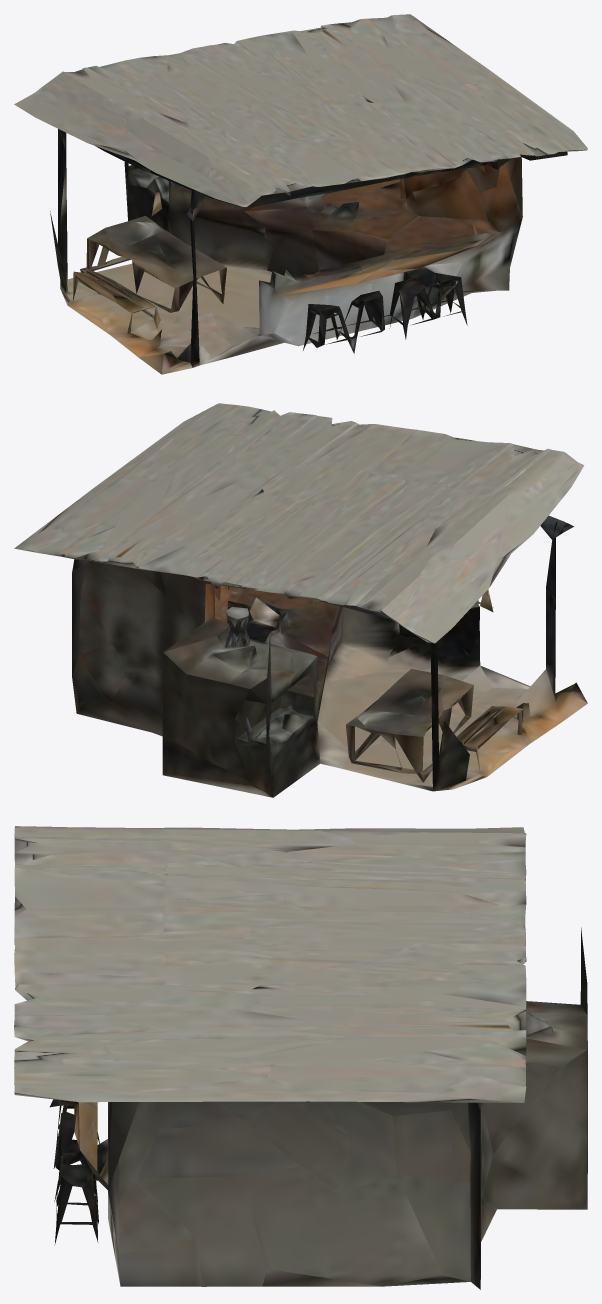
The model's file is cafe_mangrove_lod2.glb.
3 renders of one model, top to bottom at view 1: azimuth 30°, elevation 25°; view 2: azimuth 150°, elevation 25°; view 3: azimuth 270°, elevation 25°, orthographic. The views are drawn at different scales.
Visible parts, largest first — view 1: tripo_node_cec3957b-c8bc-48e9-8535-0d9aee4410a4; view 2: tripo_node_cec3957b-c8bc-48e9-8535-0d9aee4410a4; view 3: tripo_node_cec3957b-c8bc-48e9-8535-0d9aee4410a4.
Part boxes in pixels (x1,y1,x2,y2): tripo_node_cec3957b-c8bc-48e9-8535-0d9aee4410a4: (14, 14, 587, 374); tripo_node_cec3957b-c8bc-48e9-8535-0d9aee4410a4: (14, 403, 587, 797); tripo_node_cec3957b-c8bc-48e9-8535-0d9aee4410a4: (14, 826, 587, 1289).
Bounding box in the file's own units: 0.9996 × 0.4754 × 0.9075.
1 material, 1 textured.
